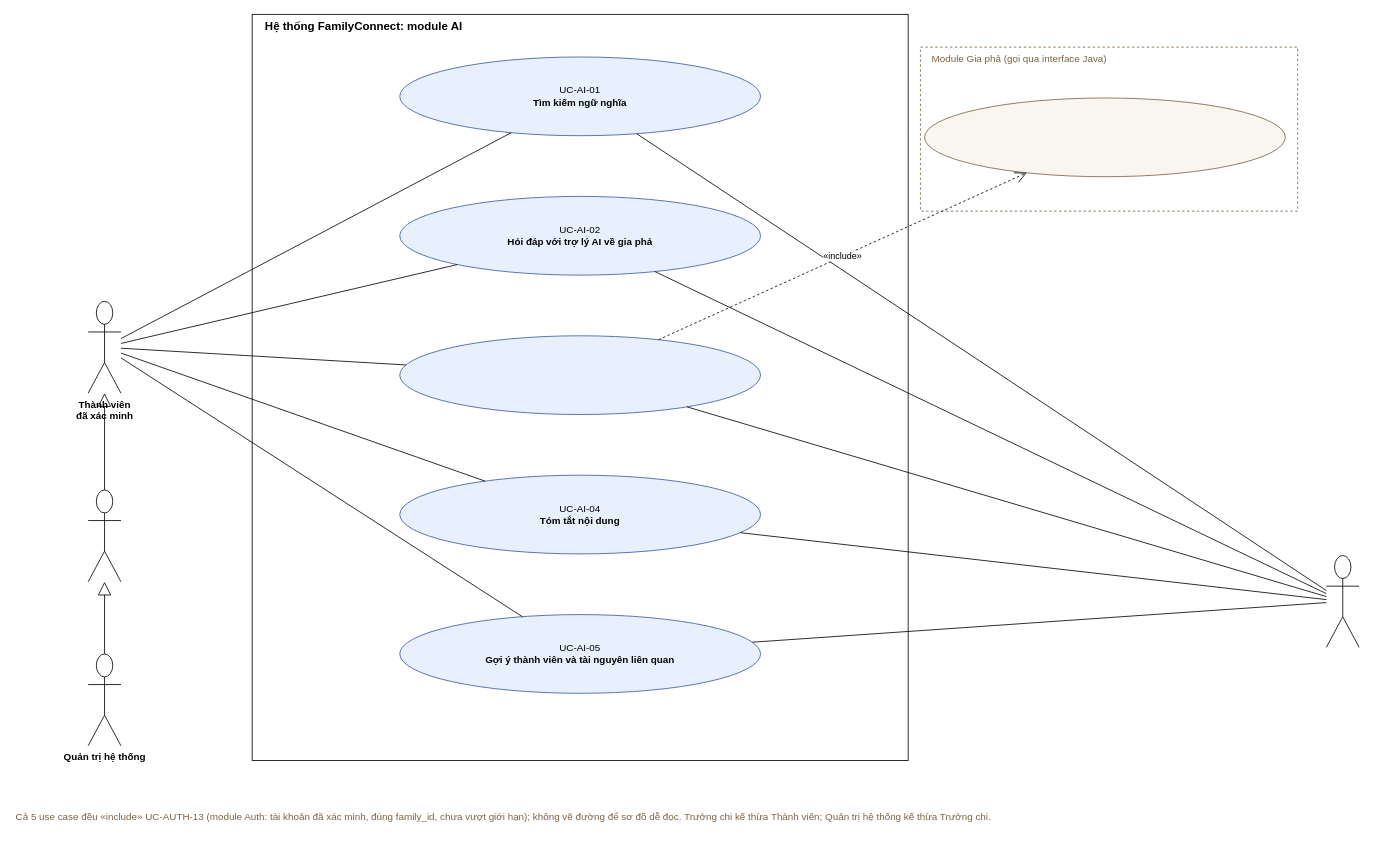
Image size: 1399x845. Some labels were removed from this diagram. Here are the shapes that lost their labels. From the top down, the box of each, then its label:
(924, 97, 1285, 177): UC-GEN-08 Truy vấn quan hệ họ hàng
(399, 335, 761, 415): UC-AI-03 Giải thích quan hệ họ hàng
(87, 489, 121, 582): Trưởng chi
(1326, 555, 1359, 647): Dịch vụ Gemini (embedding, LLM)
